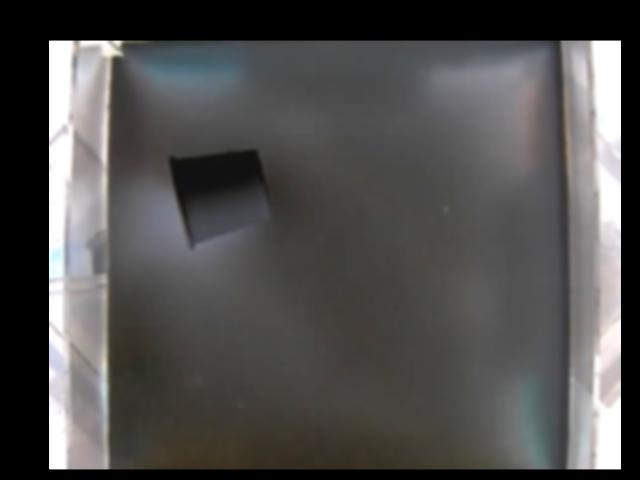Cup: (167, 148, 274, 250)
